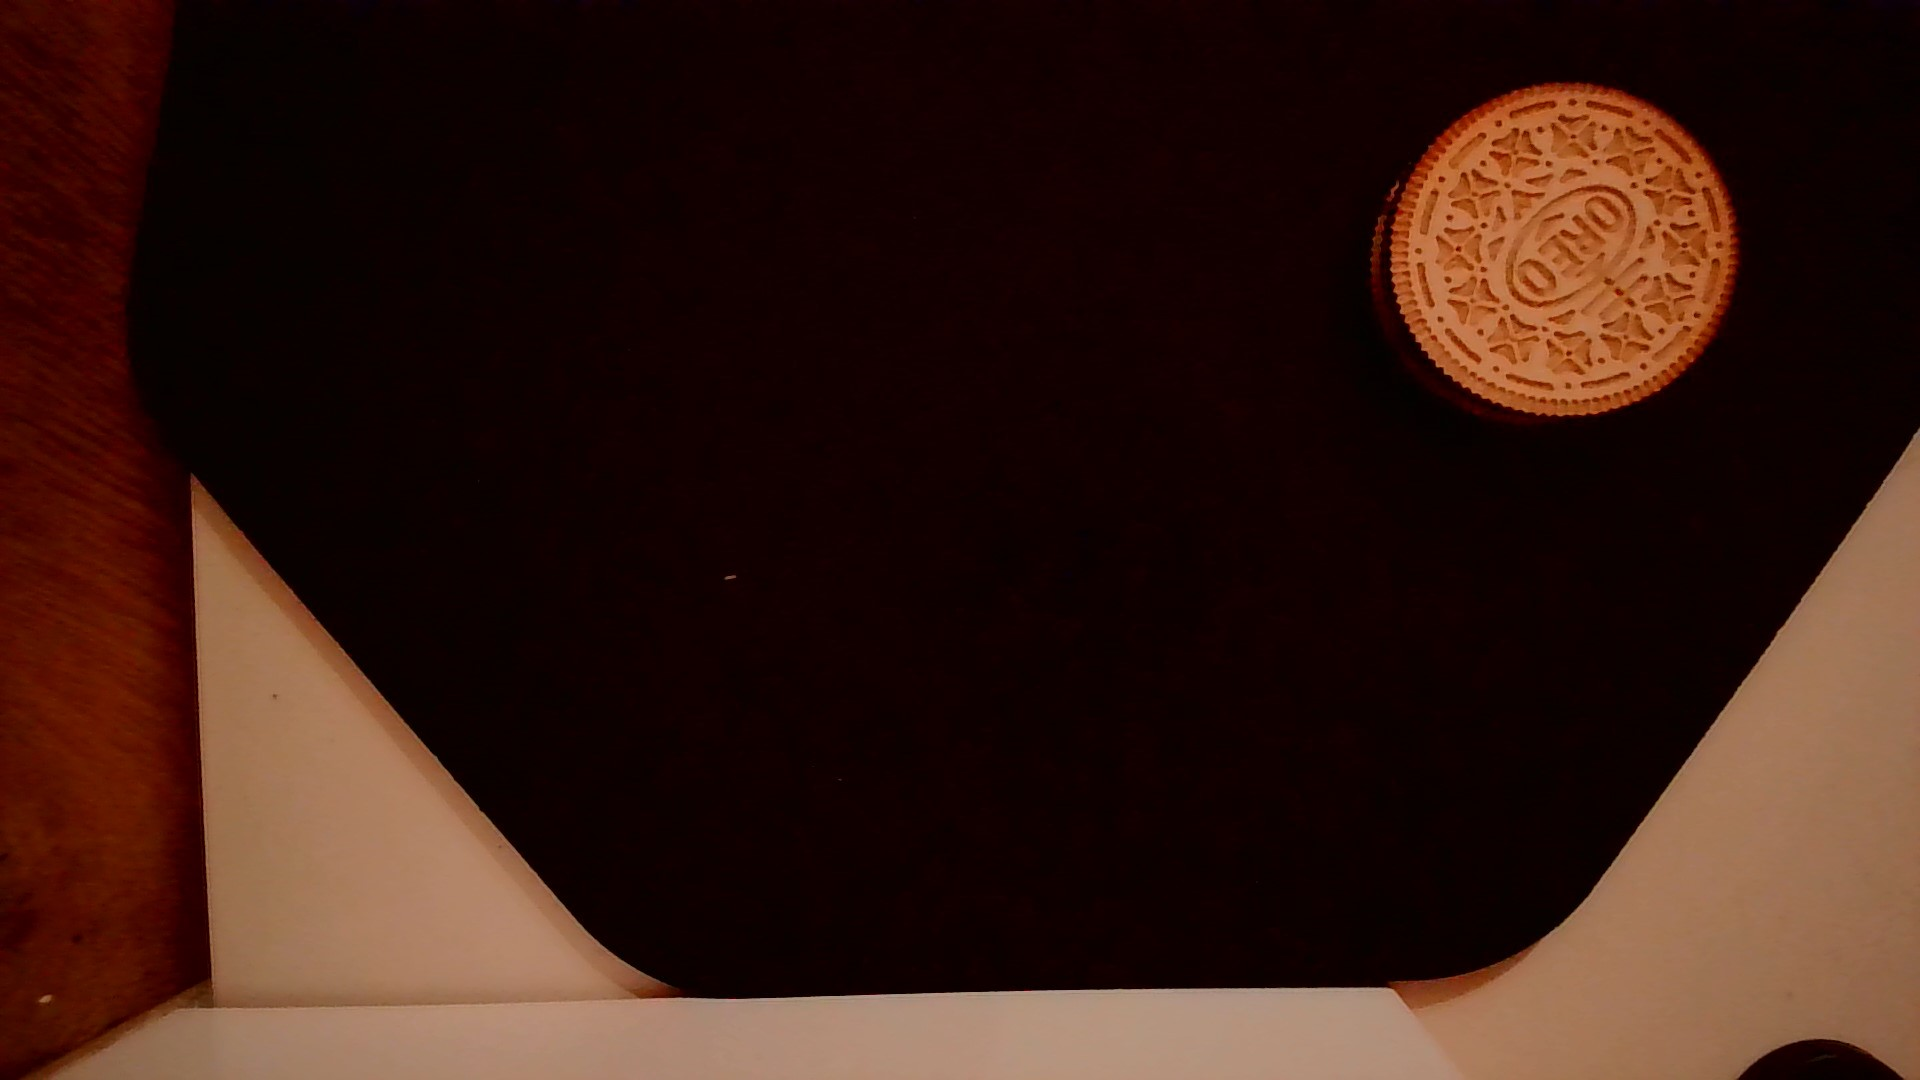Oréo: (1357, 73, 1749, 433)
